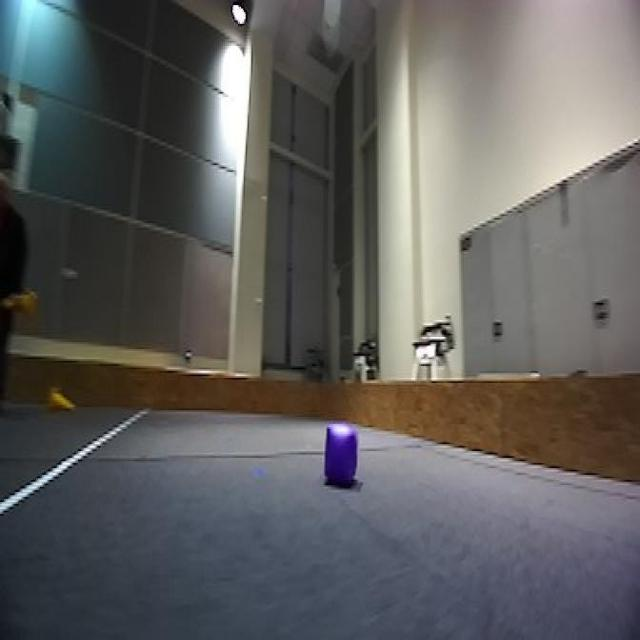frc_cone: (47, 383, 74, 414), (11, 286, 37, 317)
frc_cube: (319, 420, 361, 490)
